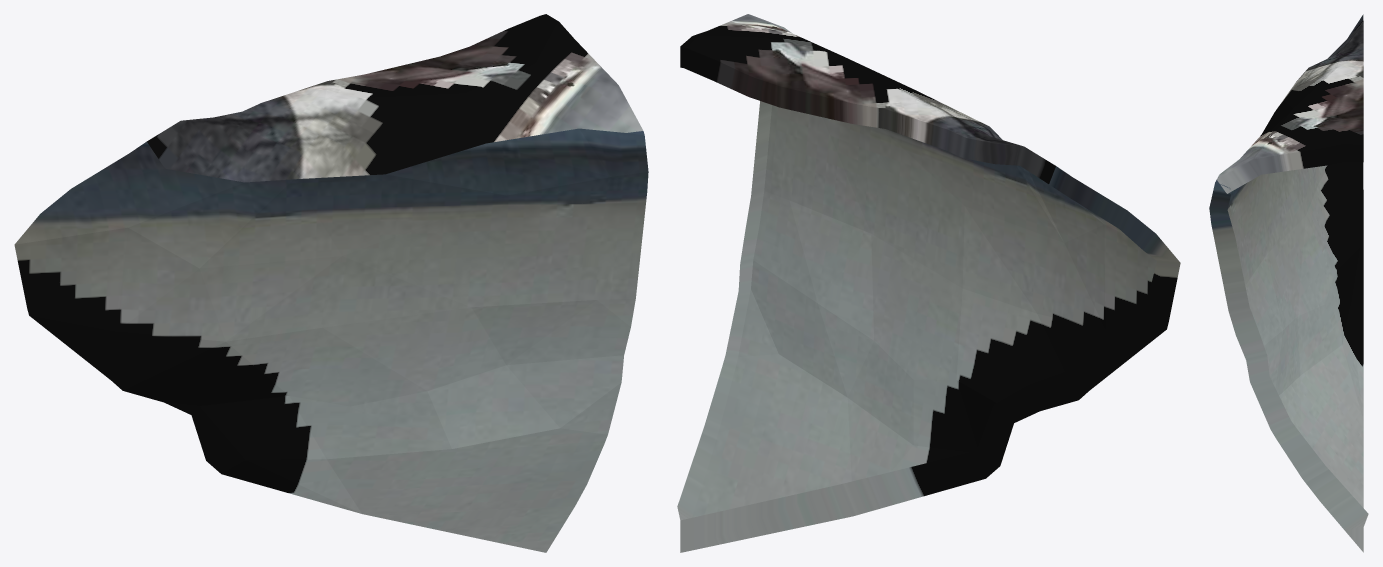
3 renders of one model, left to right at view 1: azimuth 30°, elevation 25°; view 2: azimuth 150°, elevation 25°; view 3: azimuth 270°, elevation 25°, orthographic. The views are drawn at different scales.
Visible parts, largest first — view 1: node_177; view 2: node_177; view 3: node_177.
Boxes of the visible parts, x1,y1,x2,y2 form: node_177: (14,14,648,552); node_177: (677,14,1180,552); node_177: (1209,14,1368,552).
Size of the model in its own units: 0.4498 by 0.4368 by 0.1541.
Materials: 1 (1 with a texture image).
